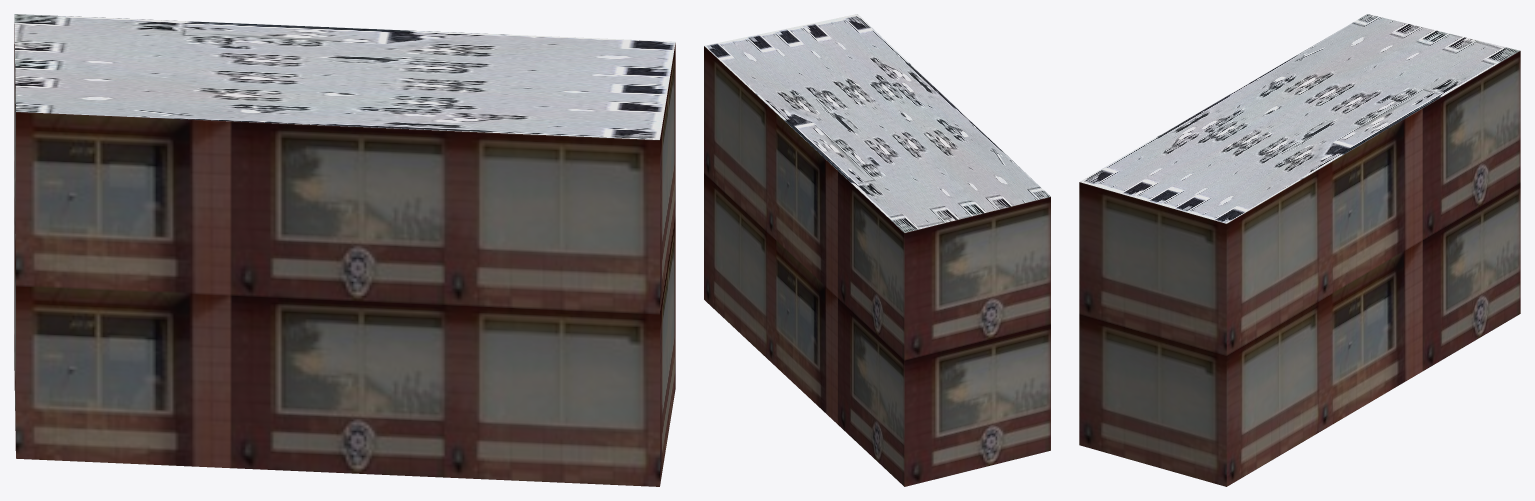
Rendered from ResTex__716.fbx.
3 renders of one model, left to right at view 1: azimuth 30°, elevation 25°; view 2: azimuth 150°, elevation 25°; view 3: azimuth 270°, elevation 25°, orthographic. The views are drawn at different scales.
Parts seen in each view (by area): view 1: CityEngineMaterial_13_m, CityEngineMaterial_4_m; view 2: CityEngineMaterial_13_m, CityEngineMaterial_4_m; view 3: CityEngineMaterial_13_m, CityEngineMaterial_4_m.
Part boxes in pixels (x1,y1,x2,y2): CityEngineMaterial_13_m: [14, 24, 675, 486]; CityEngineMaterial_4_m: [14, 14, 675, 139]; CityEngineMaterial_13_m: [704, 46, 1050, 486]; CityEngineMaterial_4_m: [704, 14, 1050, 232]; CityEngineMaterial_13_m: [1079, 51, 1520, 486]; CityEngineMaterial_4_m: [1080, 14, 1519, 223].
Bounding box in the file's own units: 10.26 × 6 × 9.11.
Materials: 2 (2 with a texture image).
